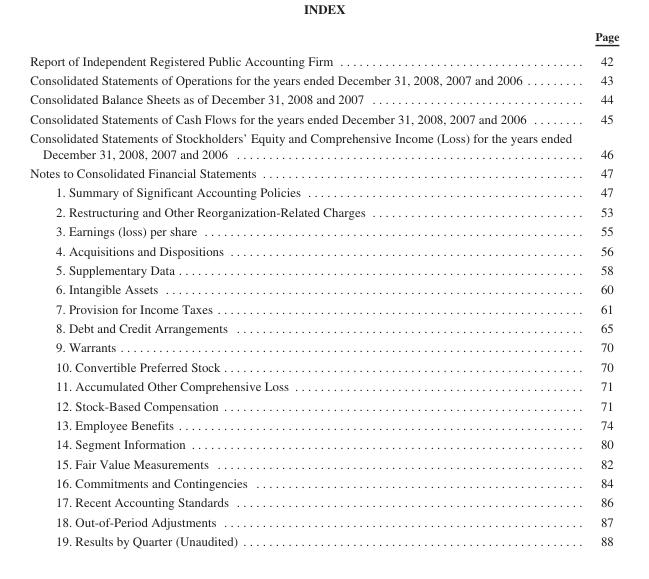table: (29, 29, 618, 548)
table column: (29, 29, 582, 548), (582, 29, 618, 548)
table column header: (29, 29, 618, 47)
table row: (29, 128, 618, 162), (29, 47, 618, 69), (29, 69, 618, 89), (29, 108, 618, 128), (29, 162, 618, 182), (29, 201, 618, 221), (29, 259, 618, 279), (29, 317, 618, 337), (29, 356, 618, 376), (29, 414, 618, 434), (29, 472, 618, 492), (29, 511, 618, 531), (29, 89, 618, 108), (29, 182, 618, 201), (29, 221, 618, 240), (29, 240, 618, 259), (29, 279, 618, 298), (29, 298, 618, 317), (29, 337, 618, 356), (29, 376, 618, 395), (29, 395, 618, 414), (29, 434, 618, 453), (29, 453, 618, 472), (29, 492, 618, 511), (29, 29, 618, 47), (29, 531, 618, 548)
